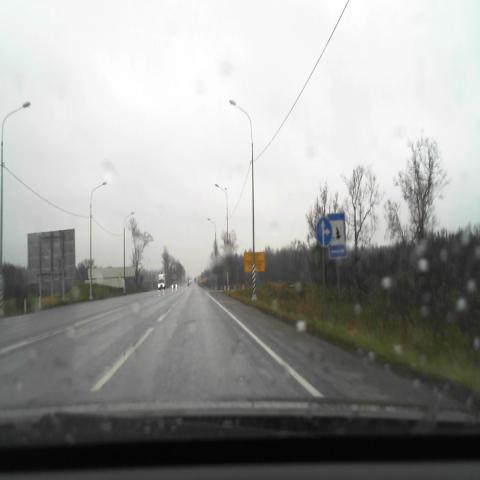4_1_4: (316, 216, 332, 246)
7_11: (328, 213, 346, 259)
